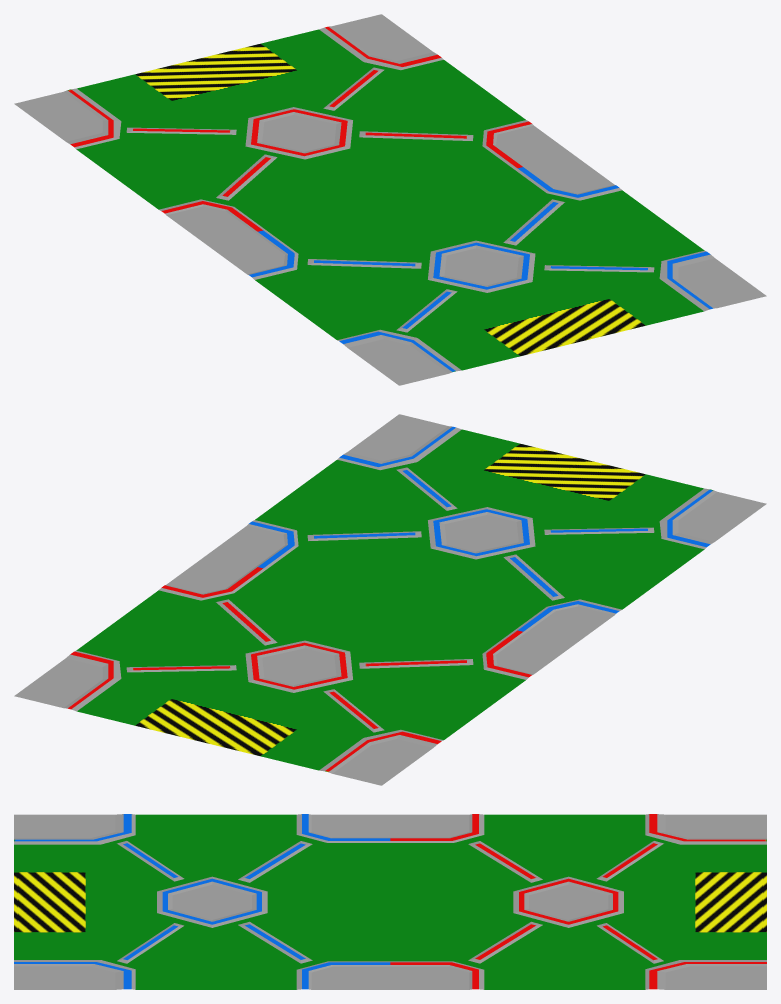
File: Map_Floor.fbx
3 views of the same model, one above another, from view 1: azimuth 30°, elevation 25°; view 2: azimuth 150°, elevation 25°; view 3: azimuth 270°, elevation 25° (orthographic). The views are drawn at different scales.
Parts seen in each view (by area): view 1: MAP_Floor; view 2: MAP_Floor; view 3: MAP_Floor.
Boxes of the visible parts, <box> form: MAP_Floor: <box>14,14,766,385</box>; MAP_Floor: <box>14,414,766,785</box>; MAP_Floor: <box>14,814,766,989</box>.
Size of the model in its own units: 4089 by 6.47 by 7422.
1 material, 1 textured.
